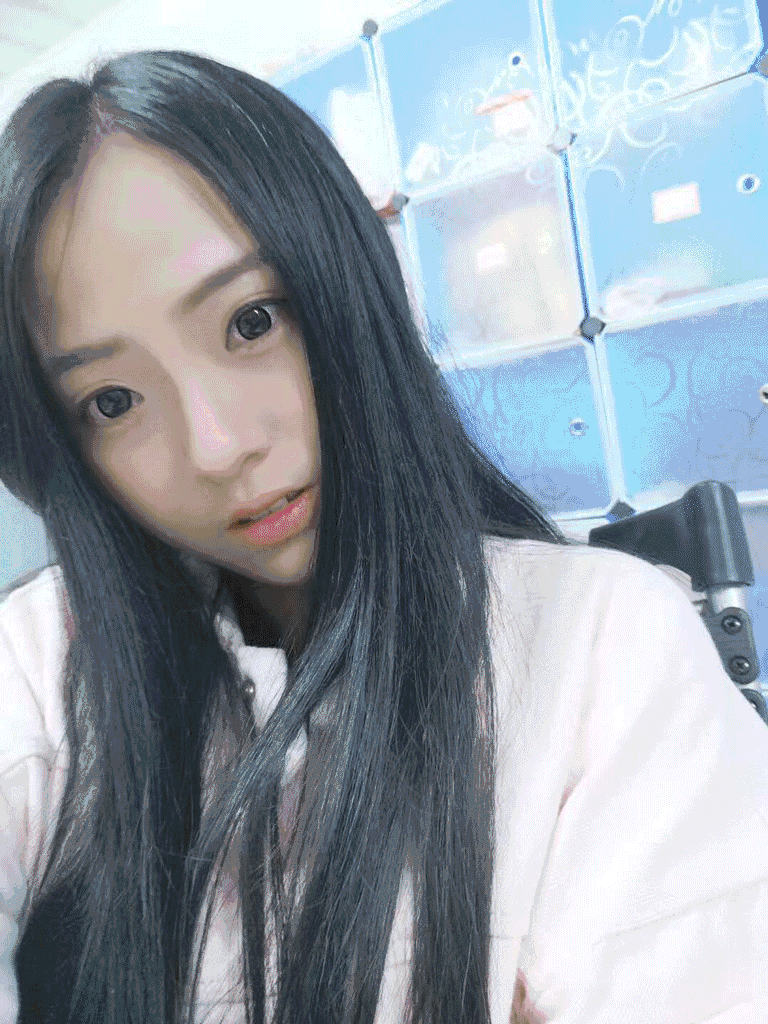person: (1, 56, 564, 956)
